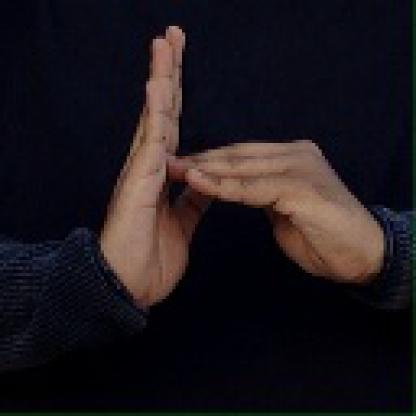Z: (102, 16, 335, 296)
